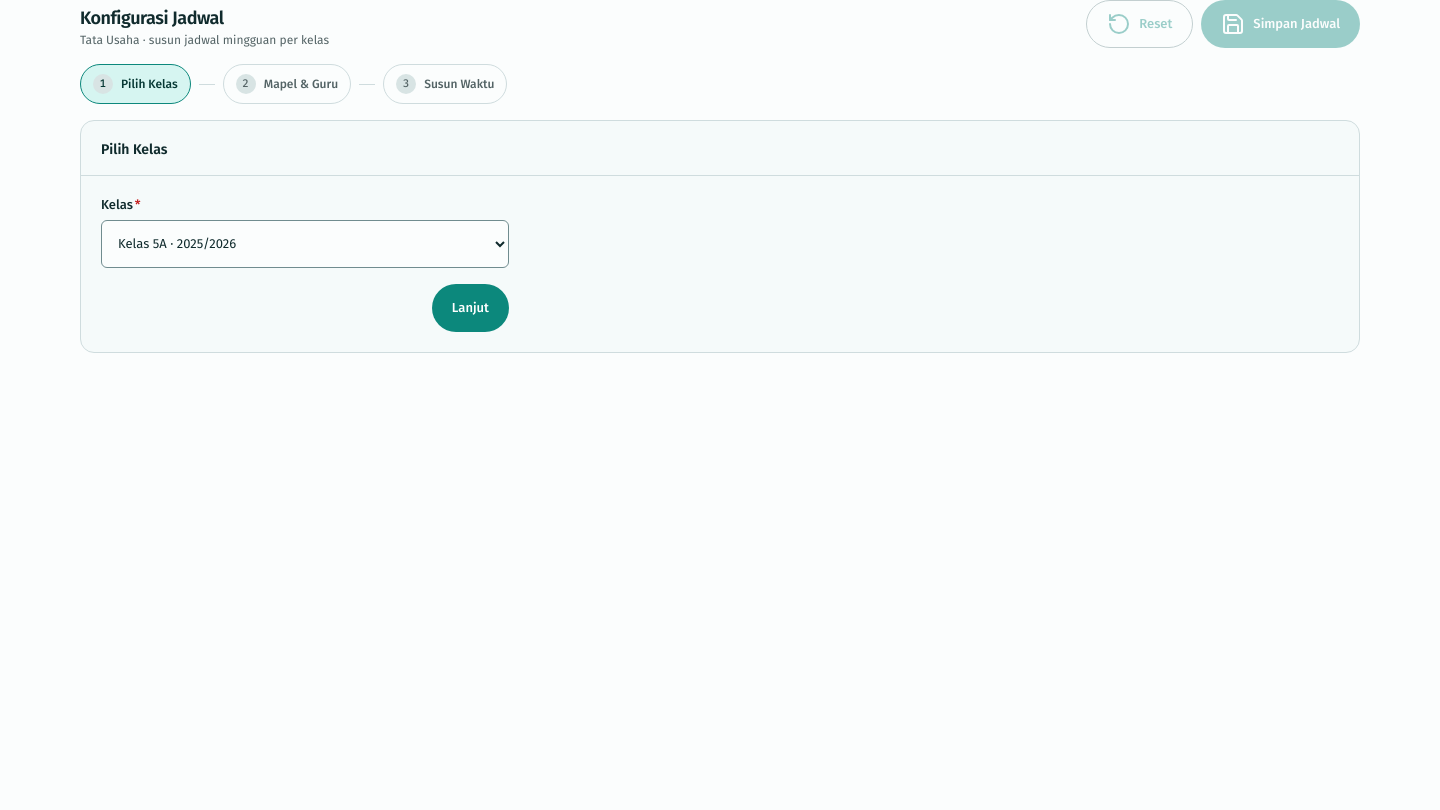
Scenario: JadwalConfigPage (#58) › highlights conflicting cells from a 409 detail.conflicts response
Click the button "3 Susun Waktu" at [445, 84], box [383, 64, 508, 104]
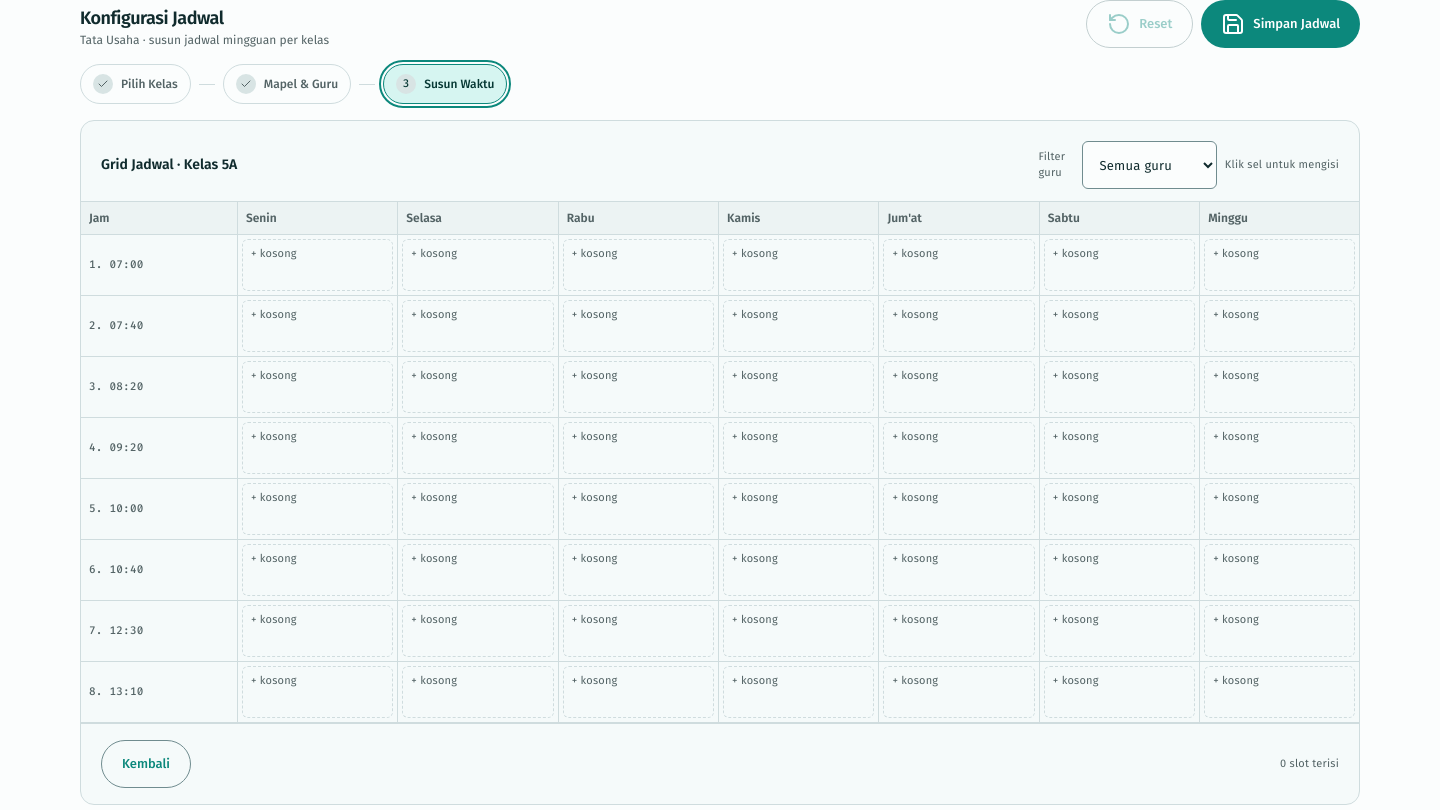
Click the button with aria-label "Senin jam ke-1" at [318, 265], box [242, 239, 393, 291]
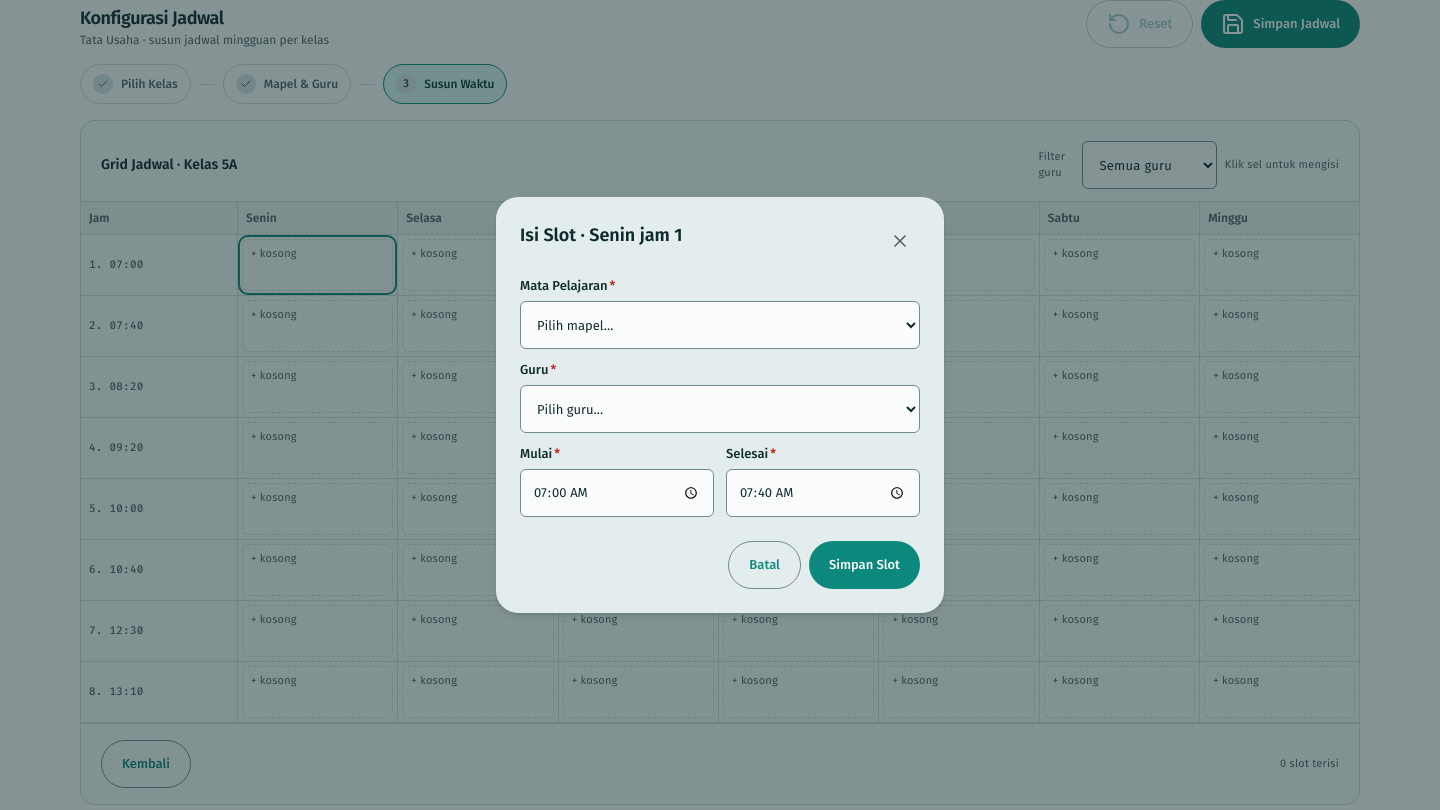
Select "Matematika" in the dropdown labelled "Mata Pelajaran*" at [720, 325], box [520, 301, 920, 349]
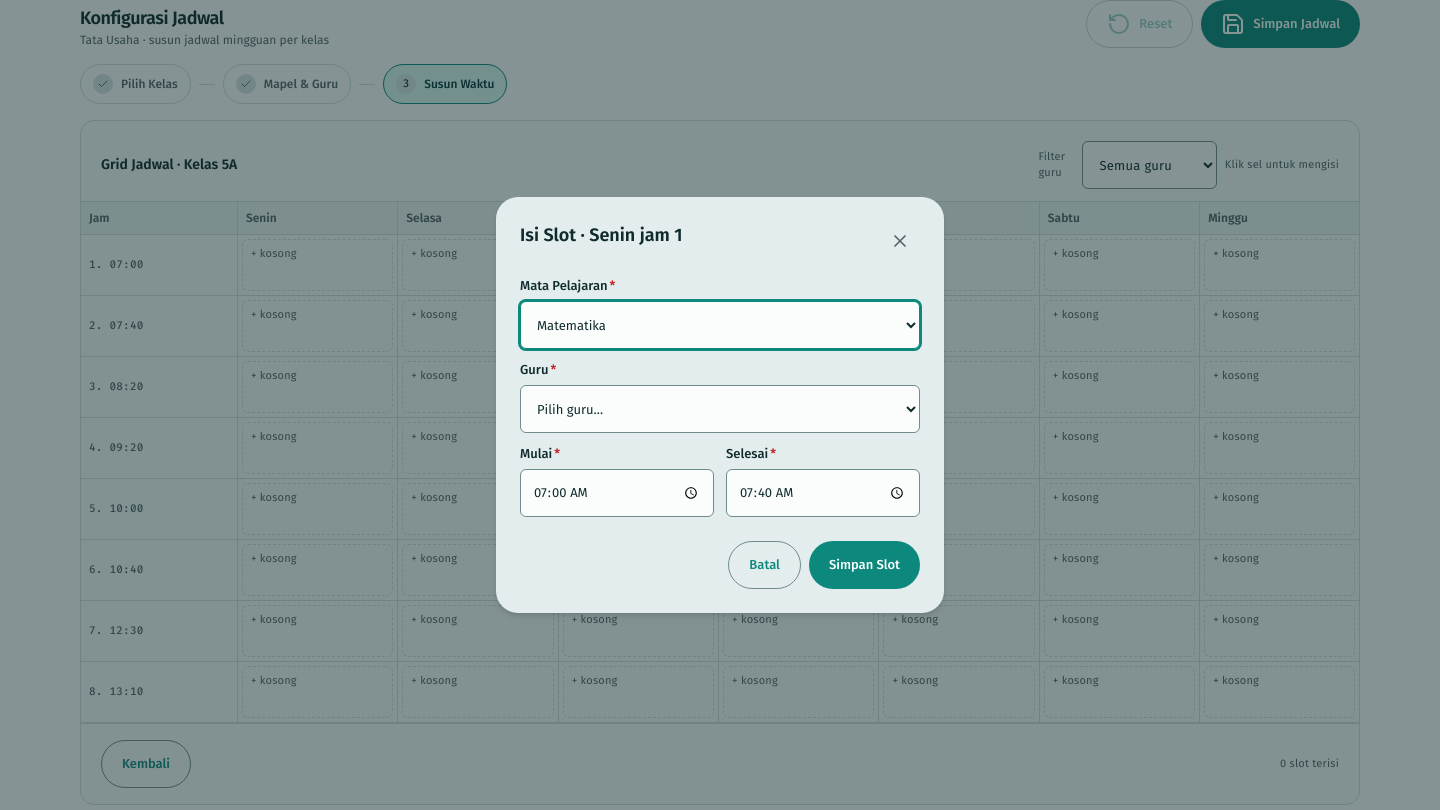
Select "Guru Kelas" in the dropdown labelled "Guru*" at [720, 409], box [520, 385, 920, 433]
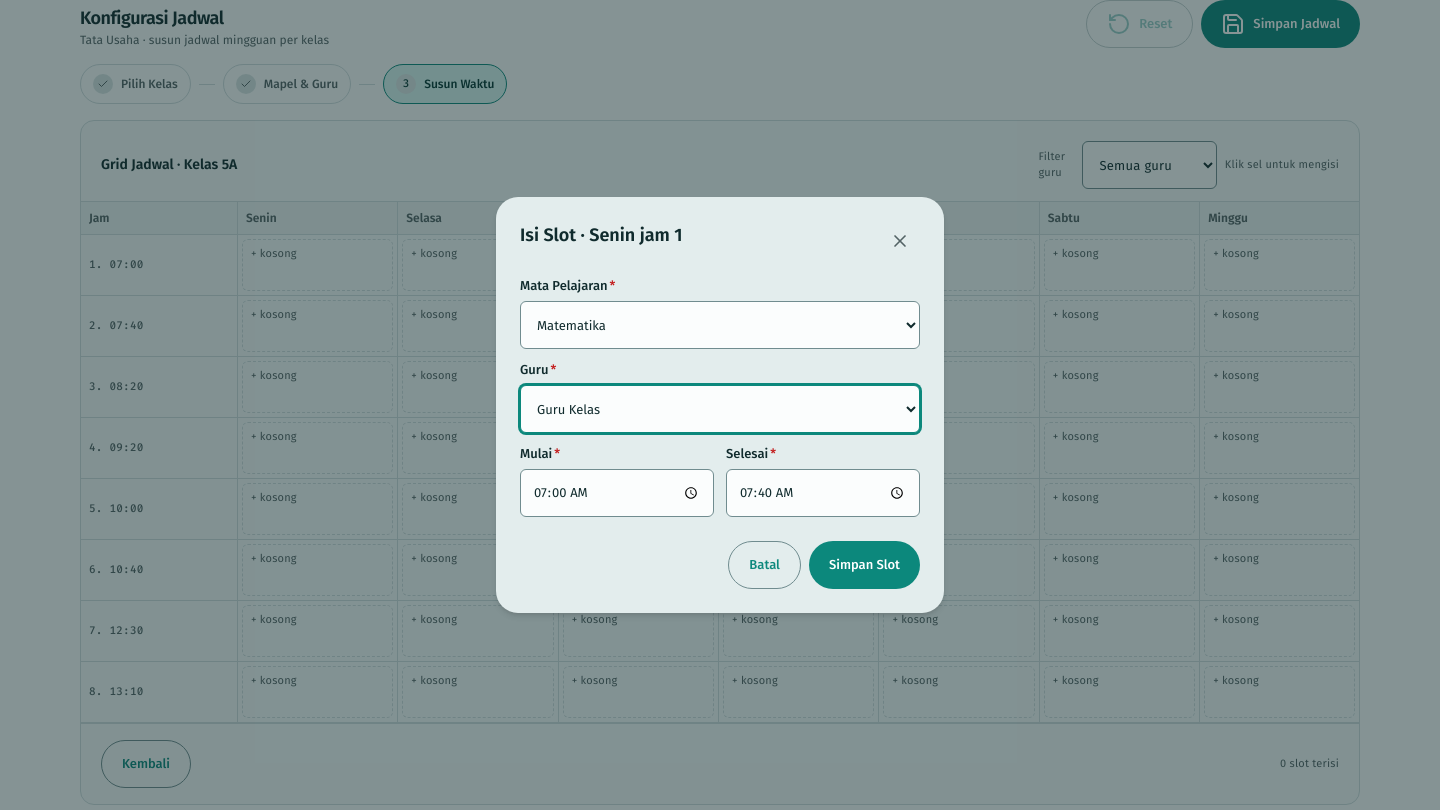
Click the button "Simpan Slot" at [864, 565], box [809, 541, 920, 589]
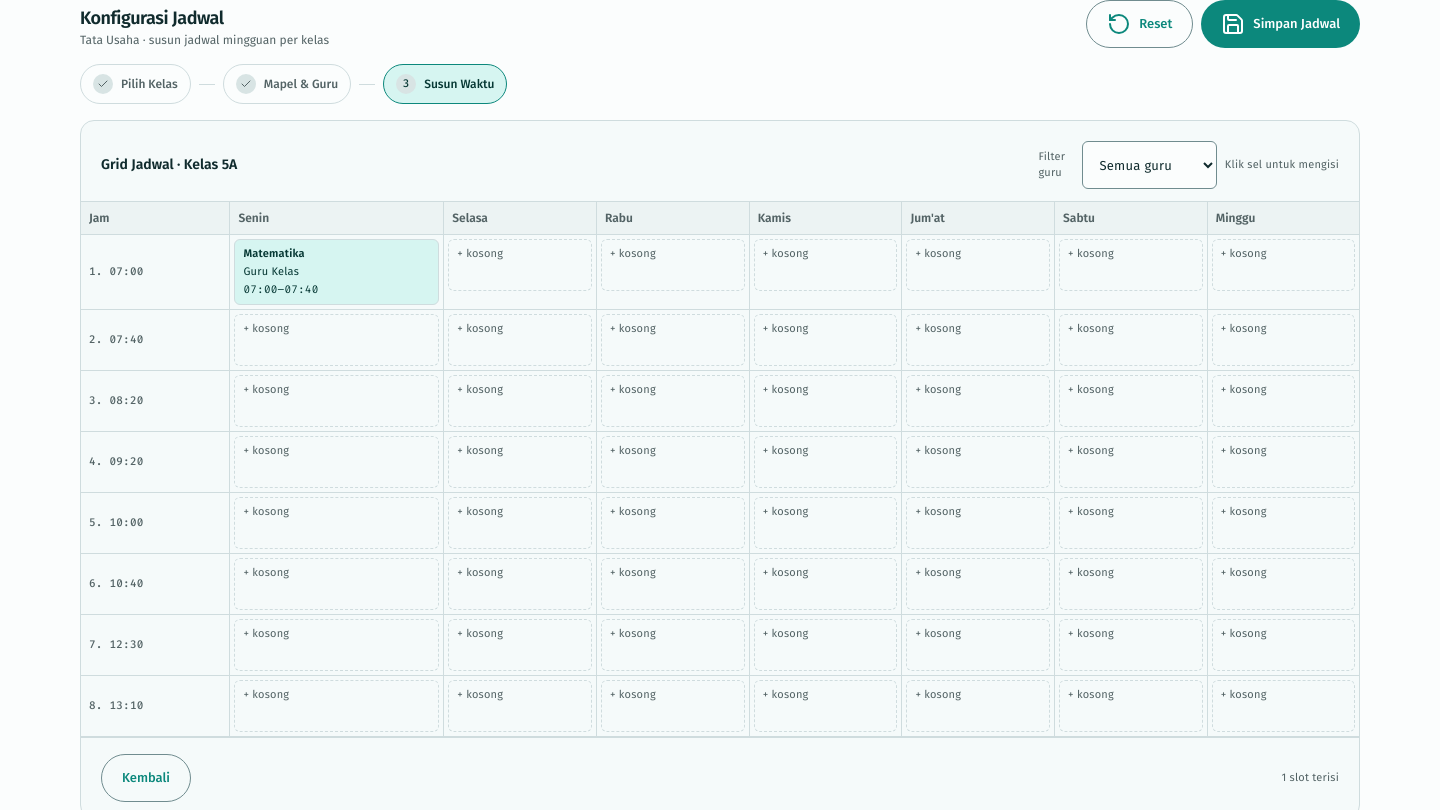
Click the button "Simpan Jadwal" at [1281, 24], box [1201, 0, 1360, 48]
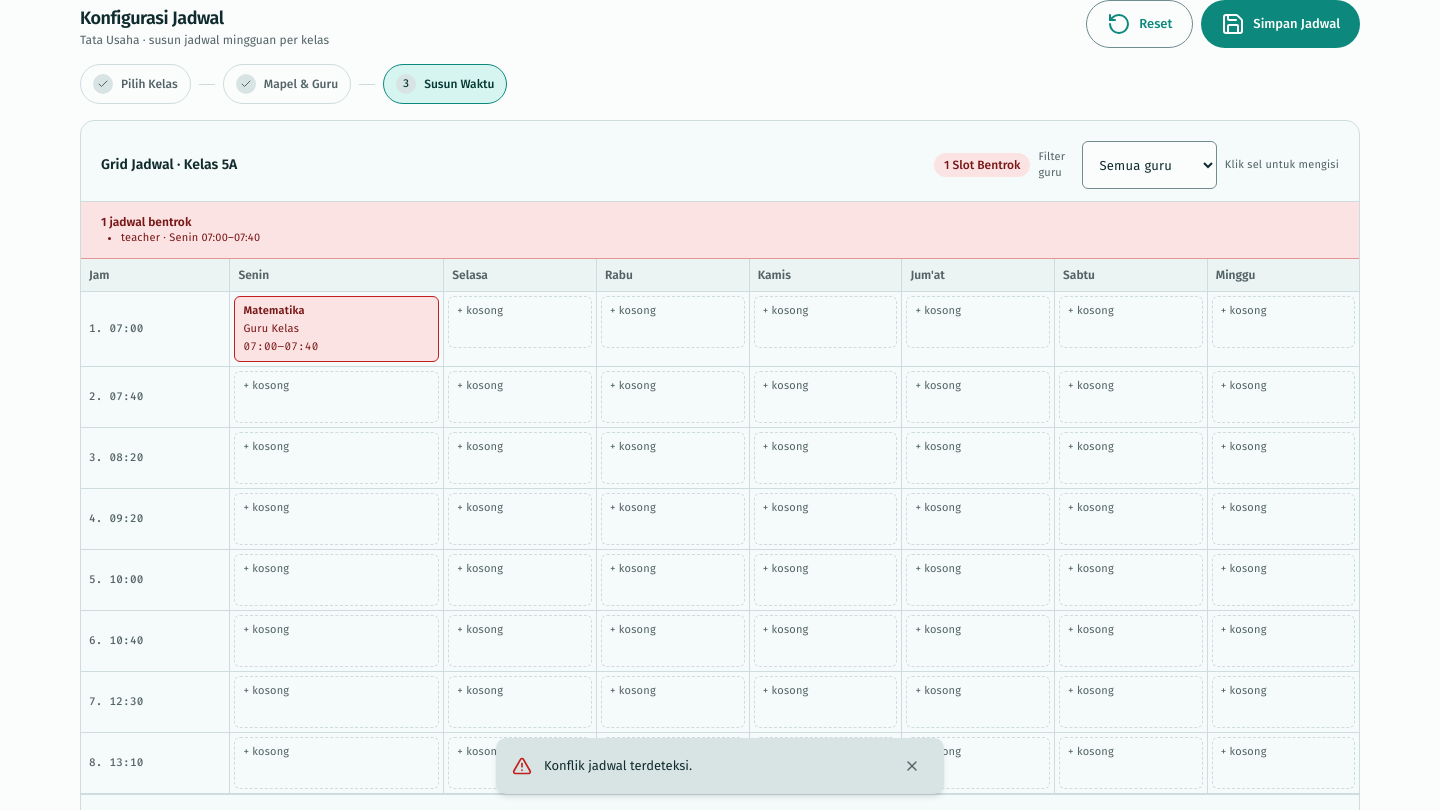
Result: the text "1 jadwal bentrok" is shown at [101, 215, 191, 229]
